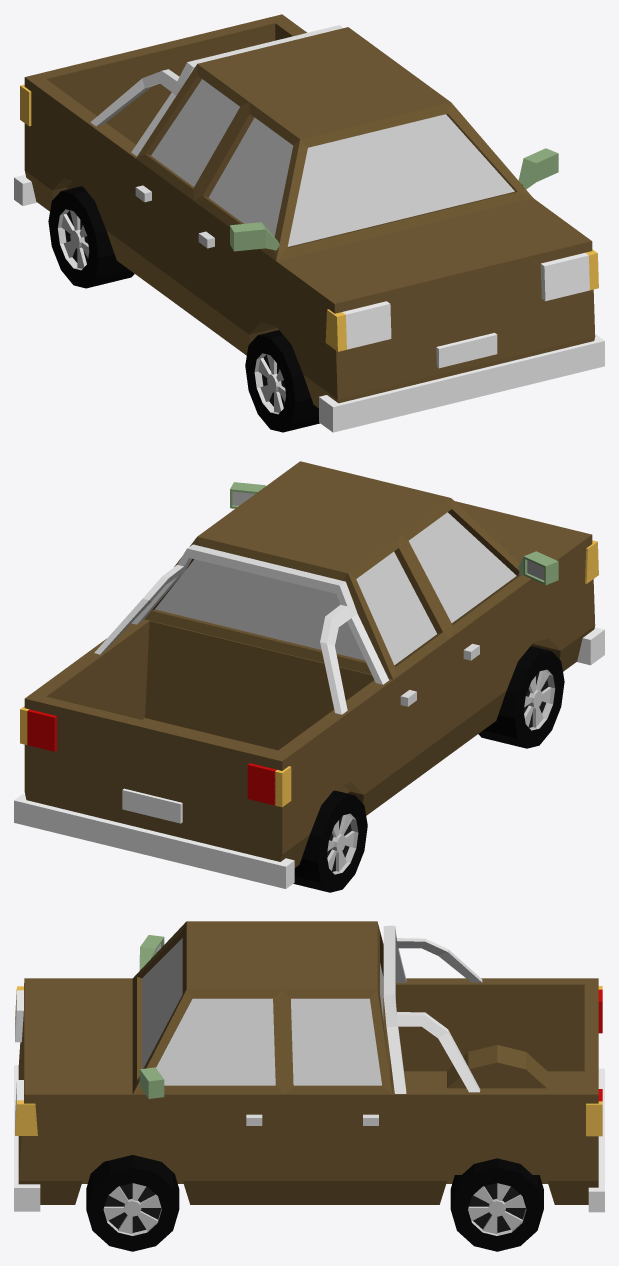
File: Car-10-B.fbx
3 views of the same model, one above another, from view 1: azimuth 30°, elevation 25°; view 2: azimuth 150°, elevation 25°; view 3: azimuth 270°, elevation 25° (orthographic). The views are drawn at different scales.
Parts seen in each view (by area): view 1: Car-10, BR, FR, Head-Light, Light-Right; view 2: Car-10, FR, BR, Break-Light, Light-Right; view 3: Car-10, FL, BL, Light-Left, Head-Light.
Part boxes in pixels (x1,y1,x2,y2): Car-10: [14, 14, 604, 432]; BR: [48, 186, 134, 288]; FR: [245, 330, 319, 432]; Head-Light: [342, 253, 589, 349]; Light-Right: [20, 84, 346, 351]; Car-10: [14, 461, 604, 888]; FR: [478, 646, 564, 748]; BR: [293, 790, 367, 892]; Break-Light: [27, 709, 276, 805]; Light-Right: [274, 540, 598, 807]; Car-10: [14, 921, 604, 1212]; FL: [86, 1155, 179, 1251]; BL: [450, 1158, 543, 1251]; Light-Left: [15, 1100, 602, 1136]; Head-Light: [15, 990, 23, 1129].
Size of the model in its own units: 3.25 by 2.44 by 5.54.
